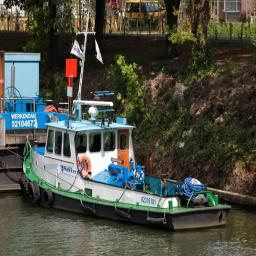tugboat: (20, 97, 234, 236)
